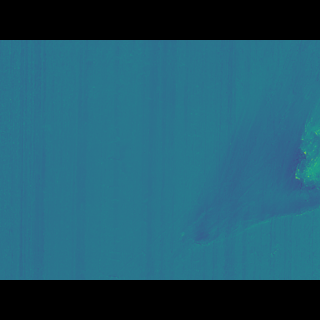Loch: (267, 121, 319, 184)
